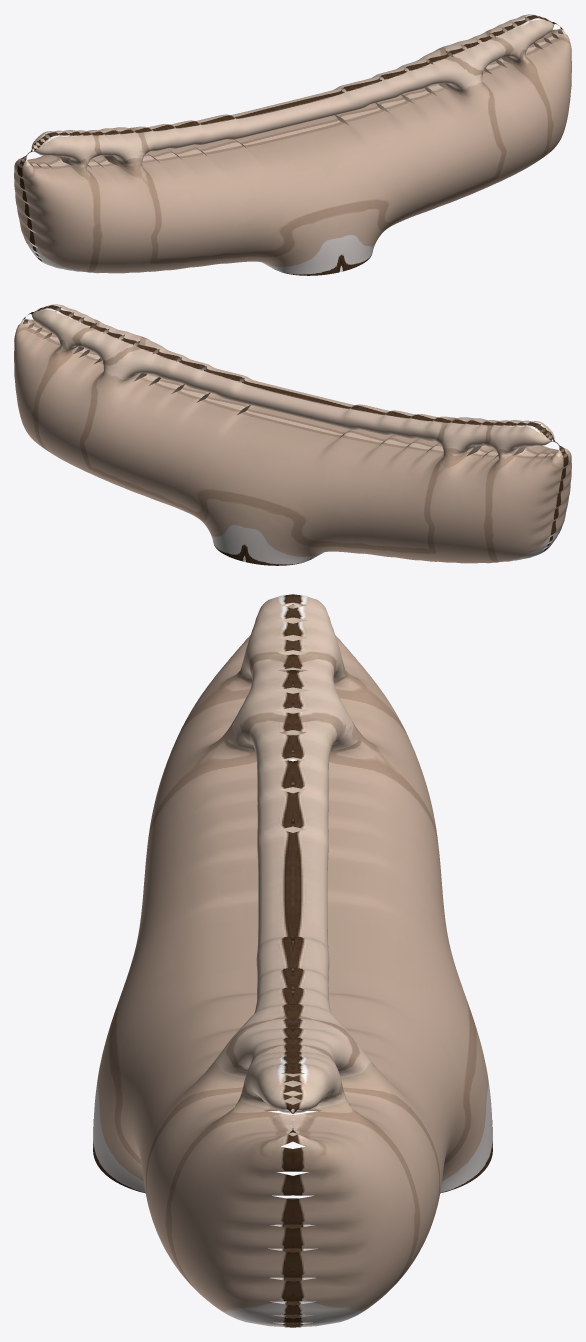
Rendered from curved_bulkhead.glb.
The picture shows the model from 3 angles, top to bottom: view 1: azimuth 30°, elevation 25°; view 2: azimuth 150°, elevation 25°; view 3: azimuth 270°, elevation 25°; orthographic projection. The views are drawn at different scales.
Visible parts, largest first — view 1: curved_bulkhead; view 2: curved_bulkhead; view 3: curved_bulkhead.
Part boxes in pixels (box(x1,y1,x2,y2)): curved_bulkhead: box(14, 14, 571, 275); curved_bulkhead: box(14, 304, 571, 565); curved_bulkhead: box(93, 594, 492, 1327).
Bounding box in the file's own units: 0.989 × 0.2762 × 0.3133.
Materials: 1 (1 with a texture image).
